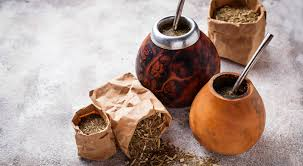guampa: (208, 27, 273, 155), (140, 1, 207, 89)
